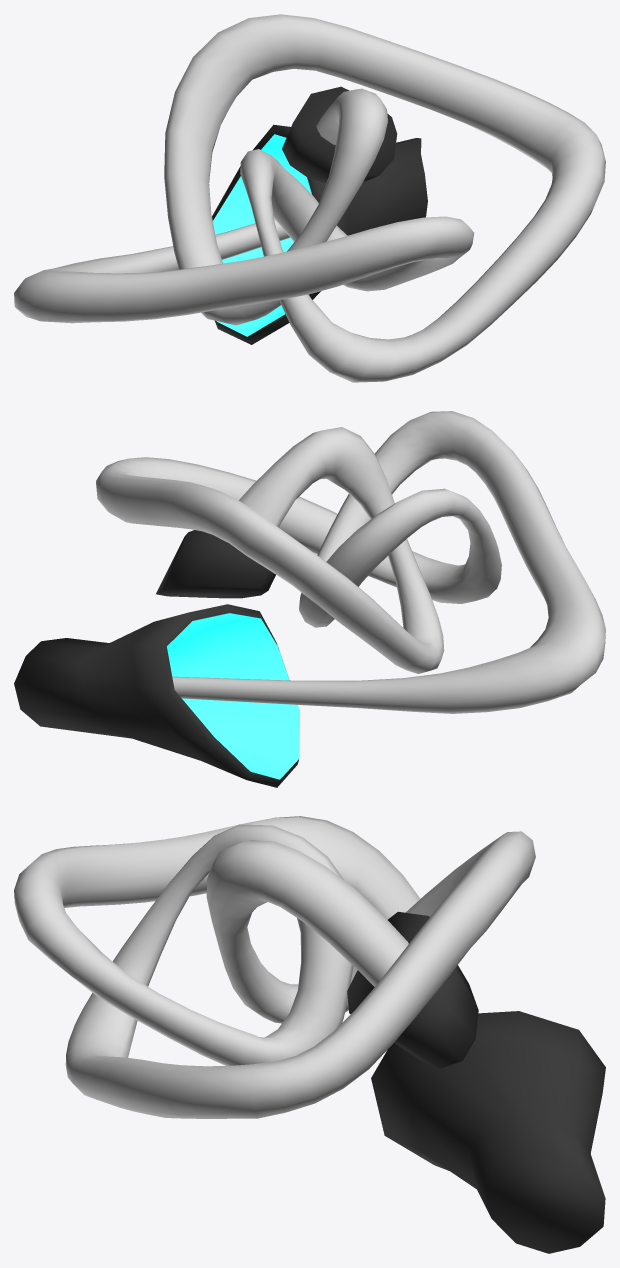
File: worldC.gltf
The picture shows the model from 3 angles, top to bottom: view 1: azimuth 30°, elevation 25°; view 2: azimuth 150°, elevation 25°; view 3: azimuth 270°, elevation 25°; orthographic projection. The views are drawn at different scales.
Parts seen in each view (by area): view 1: navMeshC, navMeshC.001, navMeshC.003; view 2: navMeshC, navMeshC.001, navMeshC.003; view 3: navMeshC, navMeshC.001.
Boxes of the visible parts, x1,y1,x2,y2 form: navMeshC: (14,14,605,382); navMeshC.001: (212,86,427,344); navMeshC.003: (213,134,311,336); navMeshC: (96,411,605,713); navMeshC.001: (14,530,298,787); navMeshC.003: (167,613,299,779); navMeshC: (14,816,535,1118); navMeshC.001: (347,911,605,1253).
Bounding box in the file's own units: 196 × 102 × 156.
